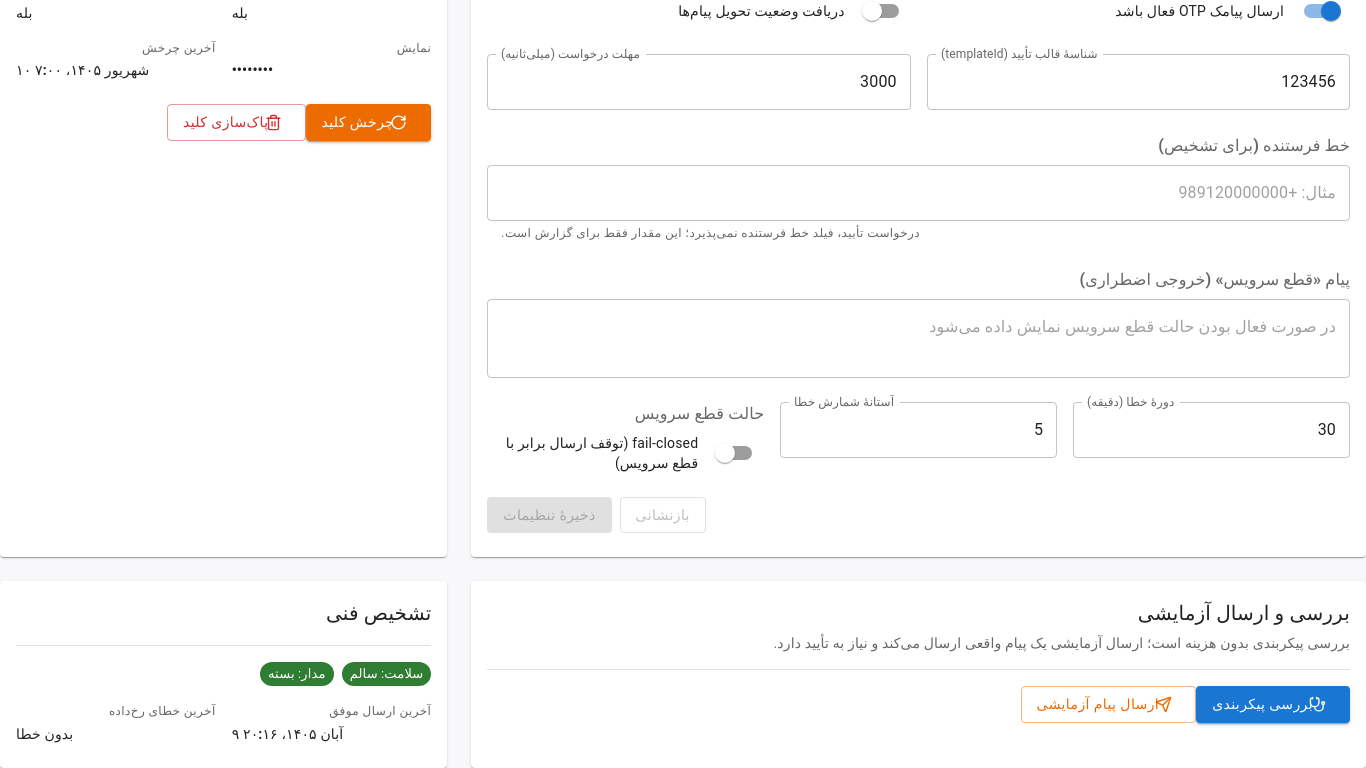
Test: SMS settings page (fixture flow) › sends a confirmed test message and shows the accepted outcome
(page scrolled)
Click the button "ارسال پیام آزمایشی". click: (1108,704)
box: [1021,686,1196,723]
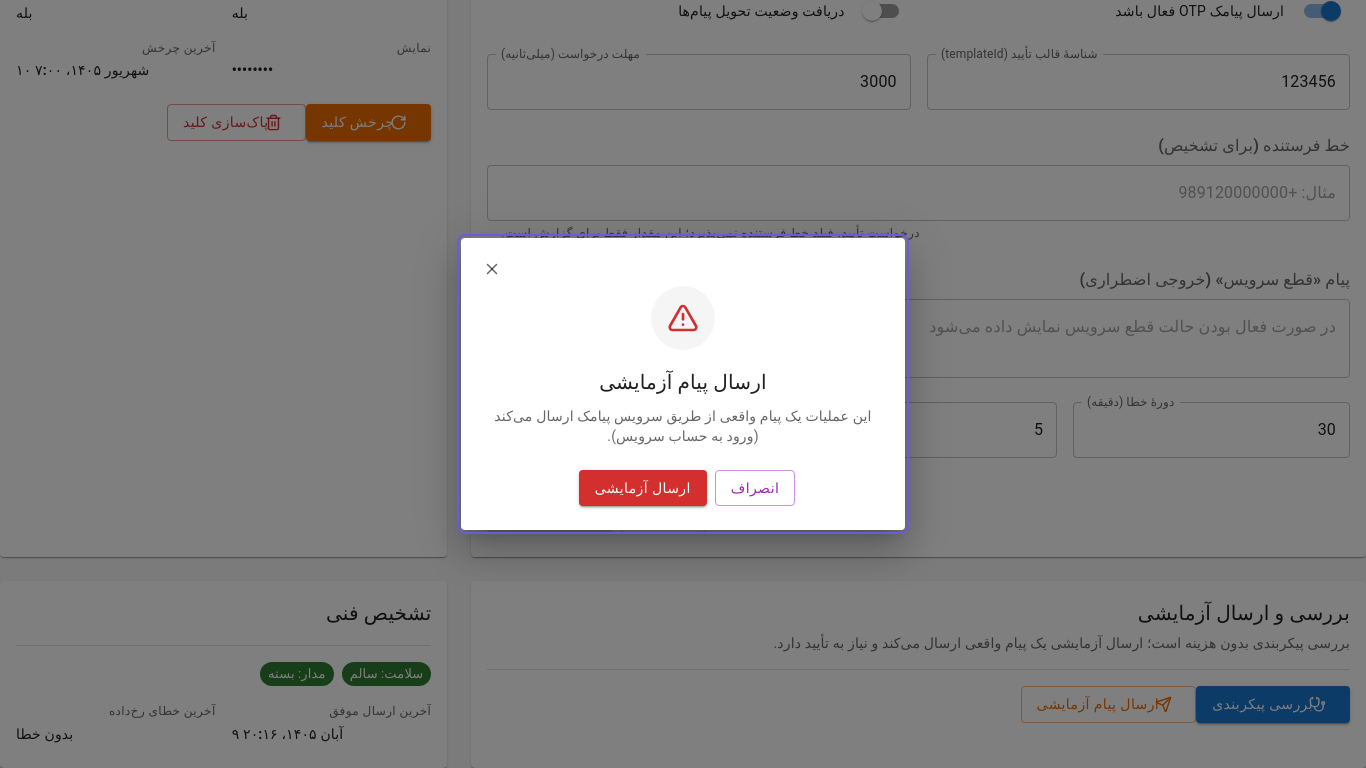
Click the button "ارسال آزمایشی". click: (643,488)
box: [579,470,707,506]
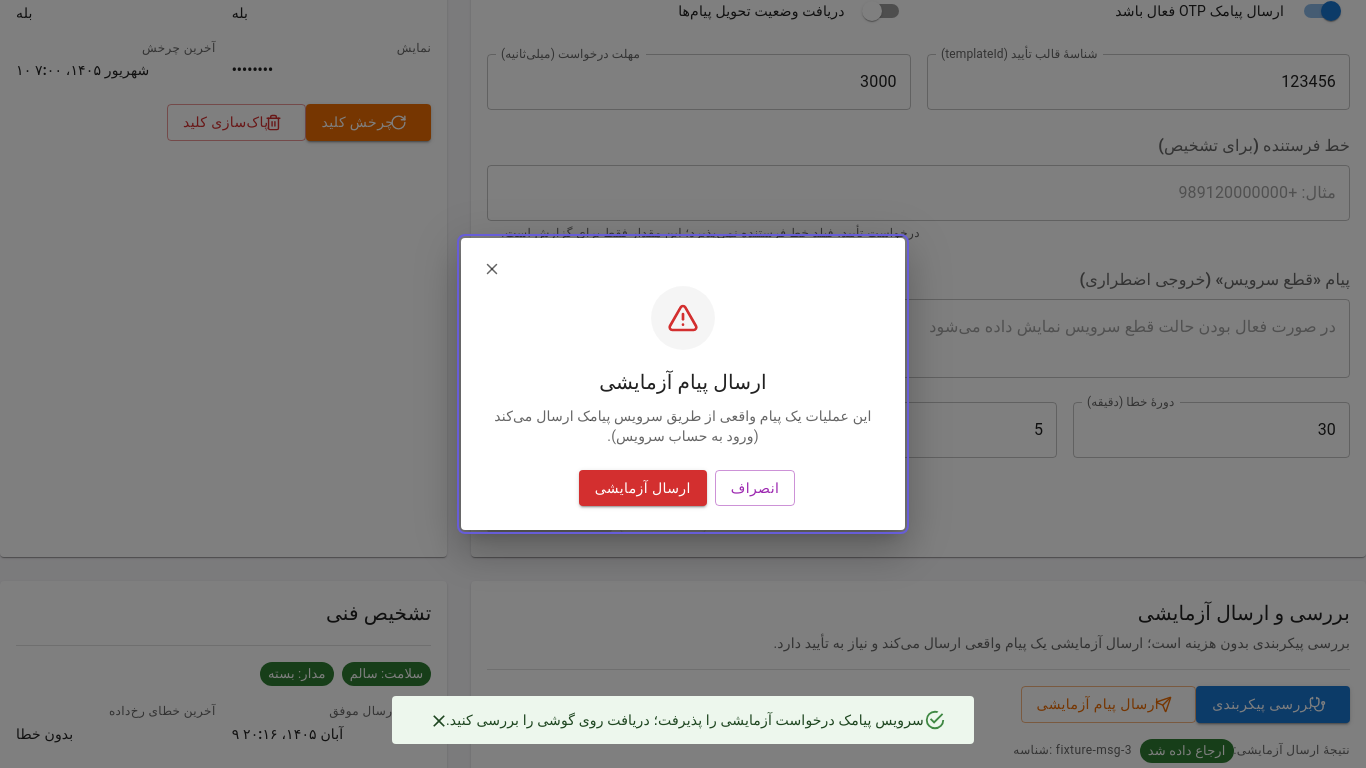
Check: the text "سرویس پیامک درخواست آزمایشی را پذیرفت؛ دریافت روی گوشی را بررسی کنید." is shown, box [446,712,924,728]
Check: the text "ارجاع داده شد" is shown, box [1148,743,1226,758]
